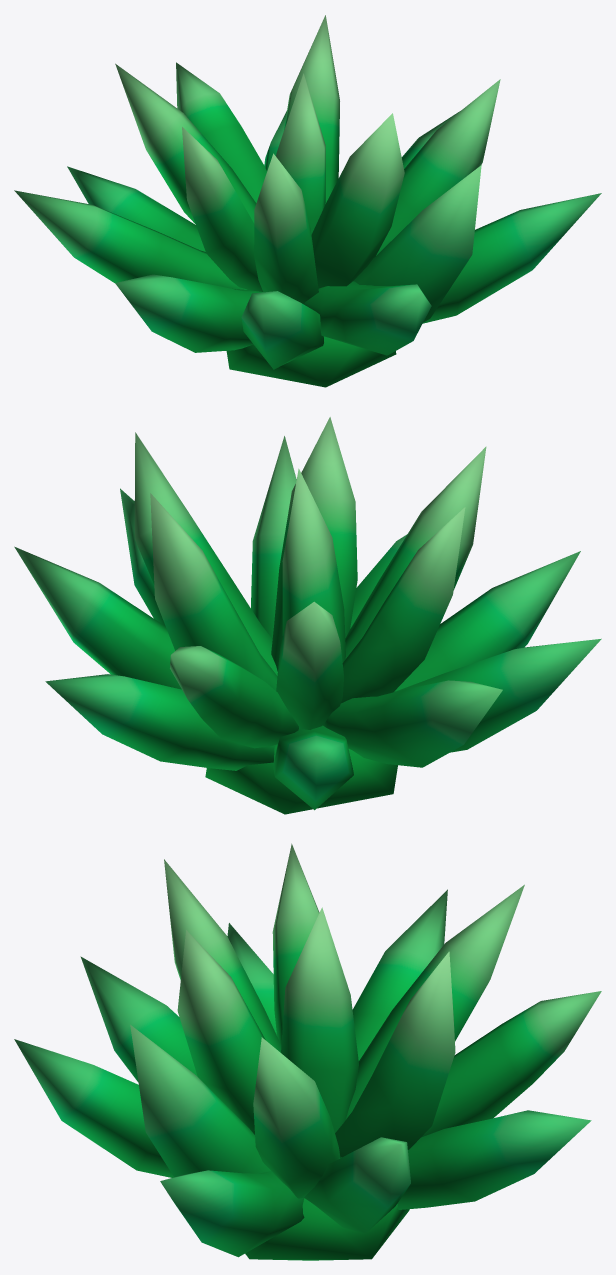
The model's file is Plant_005.glb.
3 renders of one model, top to bottom at view 1: azimuth 30°, elevation 25°; view 2: azimuth 150°, elevation 25°; view 3: azimuth 270°, elevation 25°, orthographic. The views are drawn at different scales.
Parts seen in each view (by area): view 1: Plant_005; view 2: Plant_005; view 3: Plant_005.
Boxes of the visible parts, x1,y1,x2,y2 form: Plant_005: [14, 15, 601, 387]; Plant_005: [14, 417, 601, 814]; Plant_005: [14, 843, 601, 1260].
Bounding box in the file's own units: 0.4464 × 0.2808 × 0.4221.
Materials: 1 (1 with a texture image).
